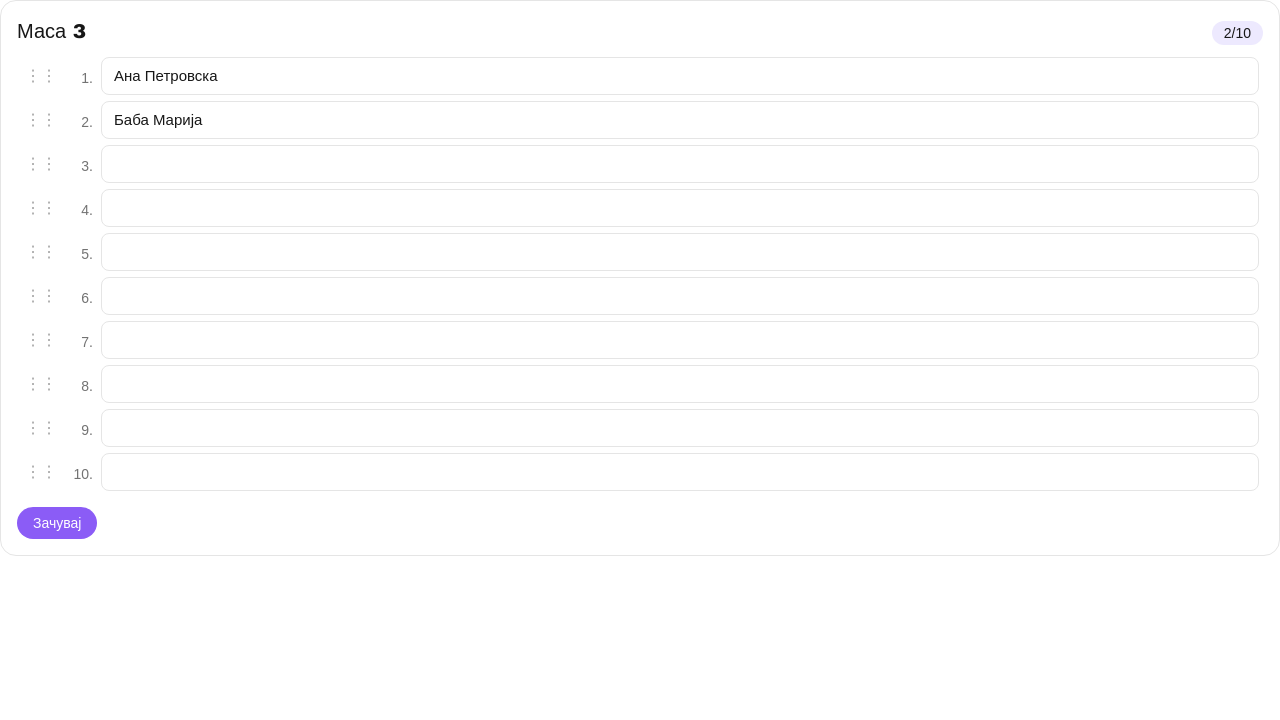
Scenario: TableSeatsPanel › shows a save error from the server
Type "Некој" into the field named "Столче 6" at (680, 296), box [101,277,1259,315]
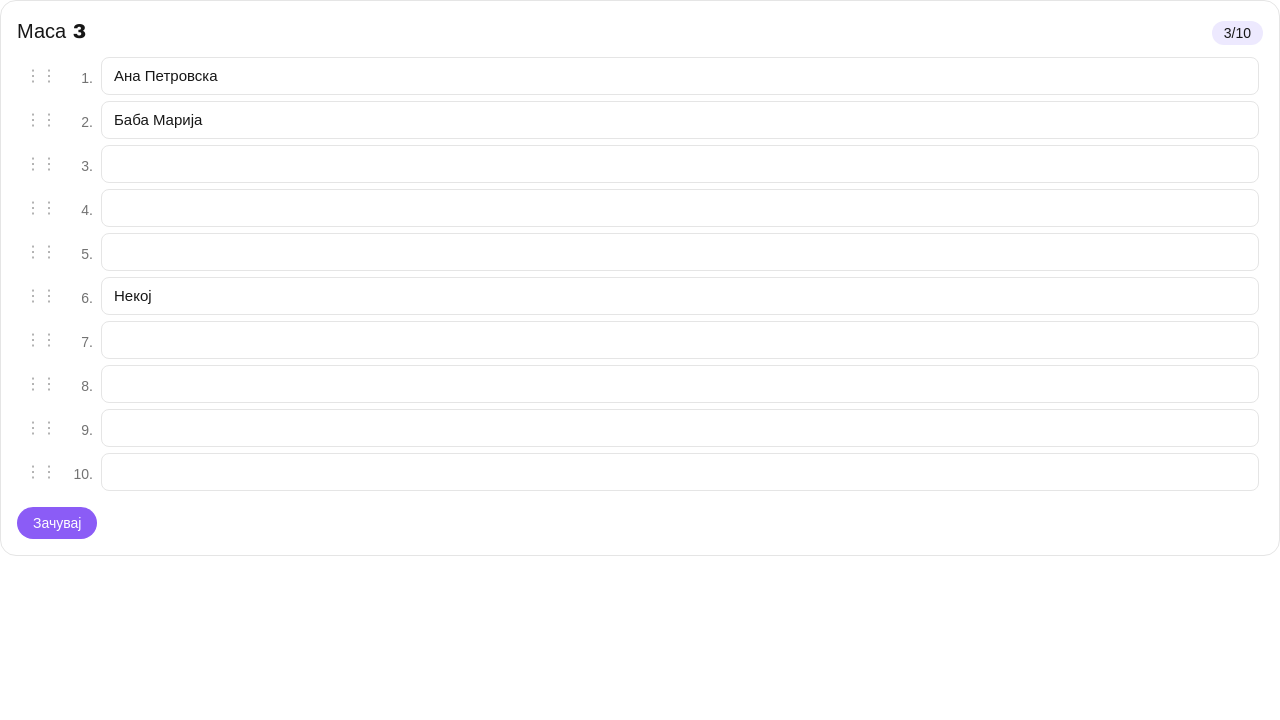
Click the button "Зачувај" at (57, 523), box [17,507,97,539]
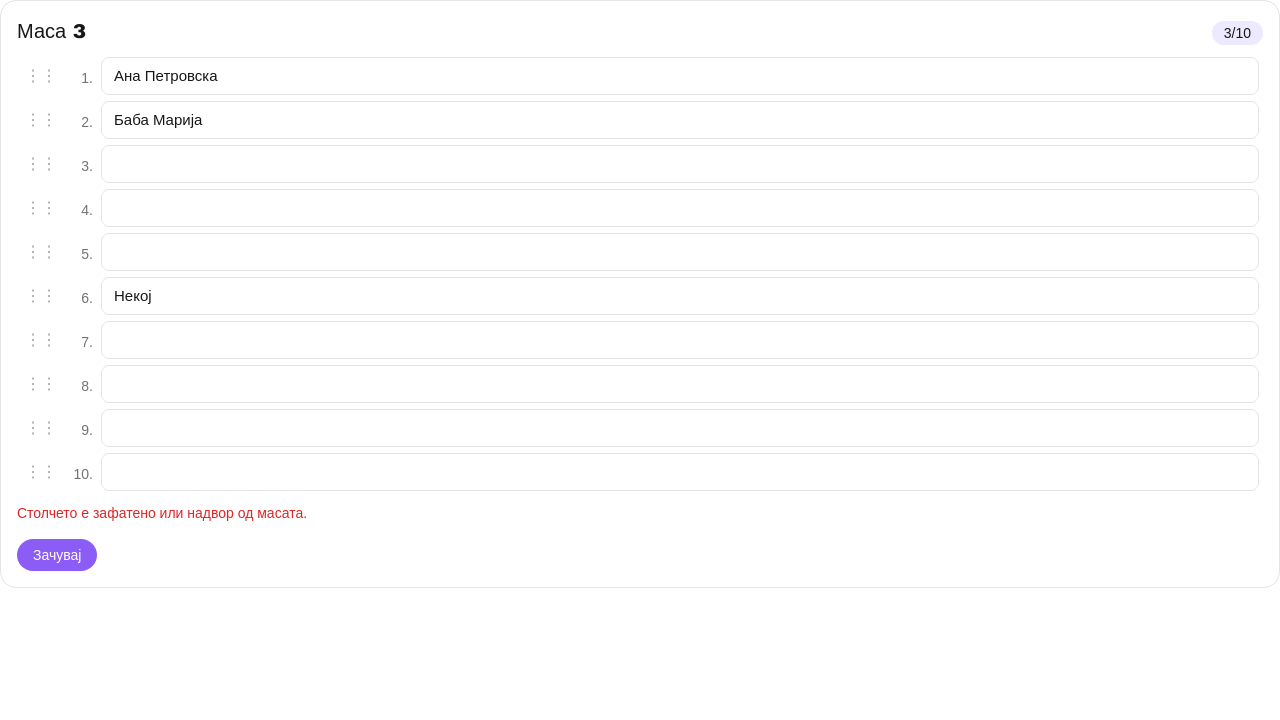
Result: the text "Столчето е зафатено или надвор од масата." is shown at [17,505,307,521]
